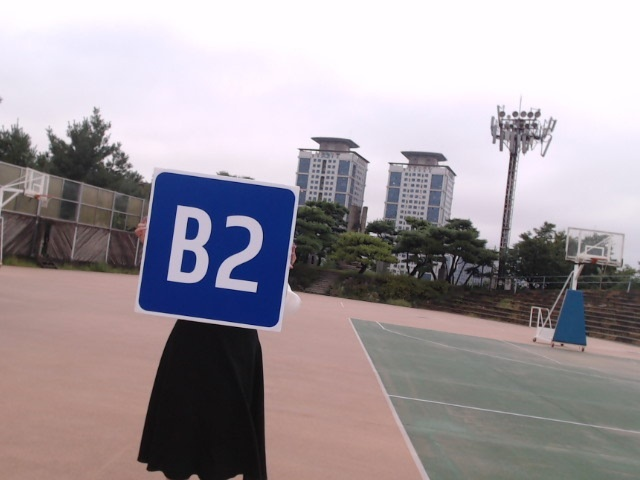delivery_b2: (137, 172, 295, 329)
